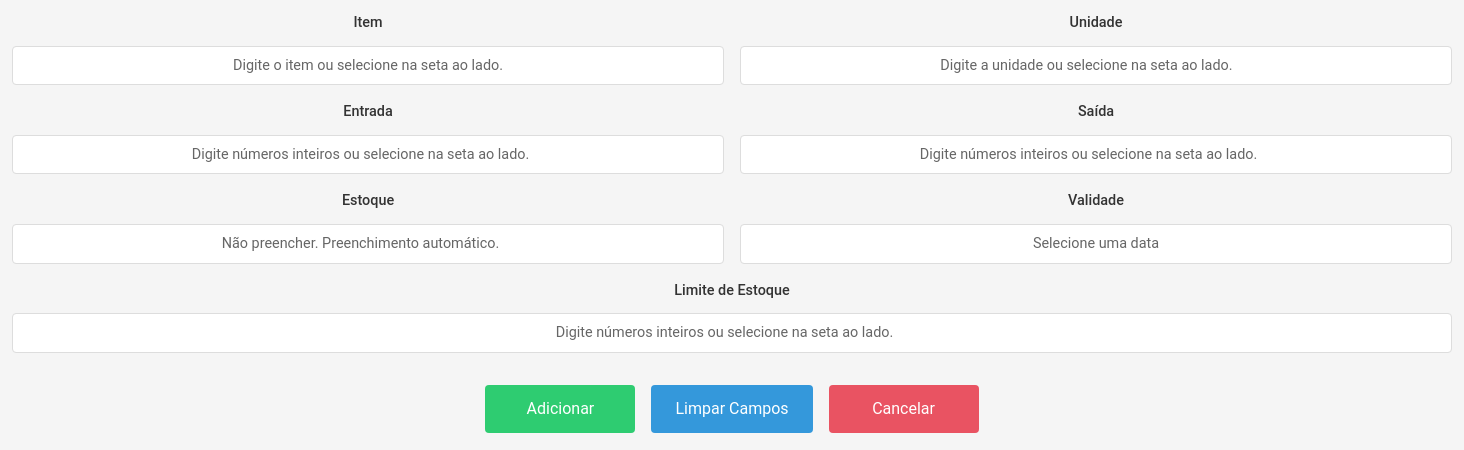
Test: AddItemForm › should disable submit button while submitting
// Preencher campos obrigatórios
Type "Arroz" into the field labelled "Item" at [368, 65], box [12, 46, 724, 85]
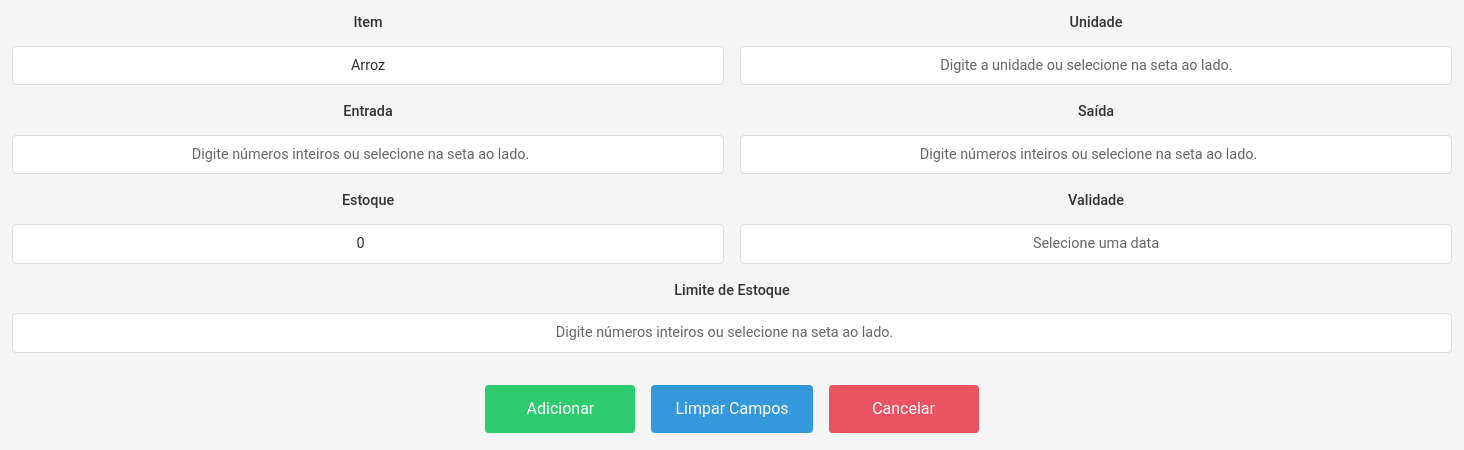
Type "Kg" into the field labelled "Unidade" at [1096, 65], box [740, 46, 1452, 85]
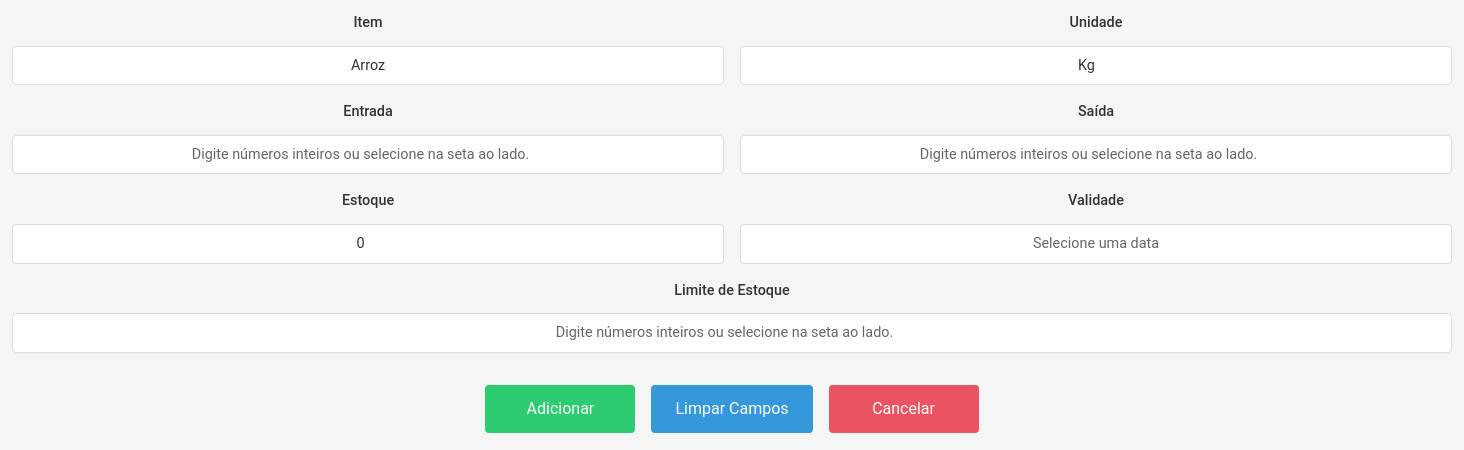
Click the button "Adicionar" at [560, 409], box [485, 385, 635, 433]
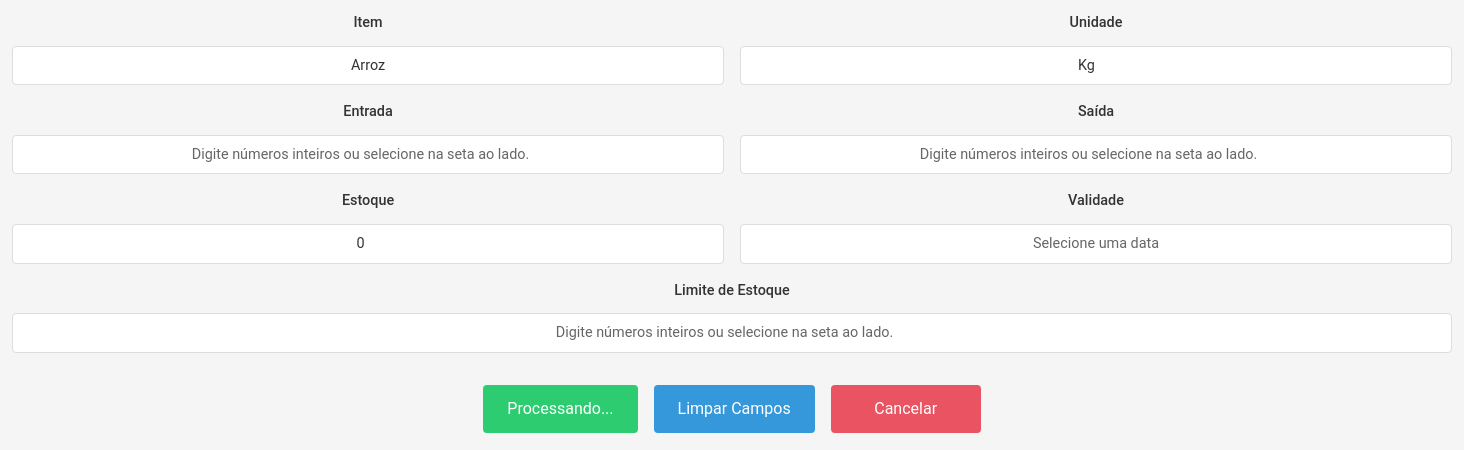
Now the button named "adicionar" is disabled, box [483, 385, 638, 433]
Now the button named "adicionar" reads "Processando...", box [483, 385, 638, 433]
